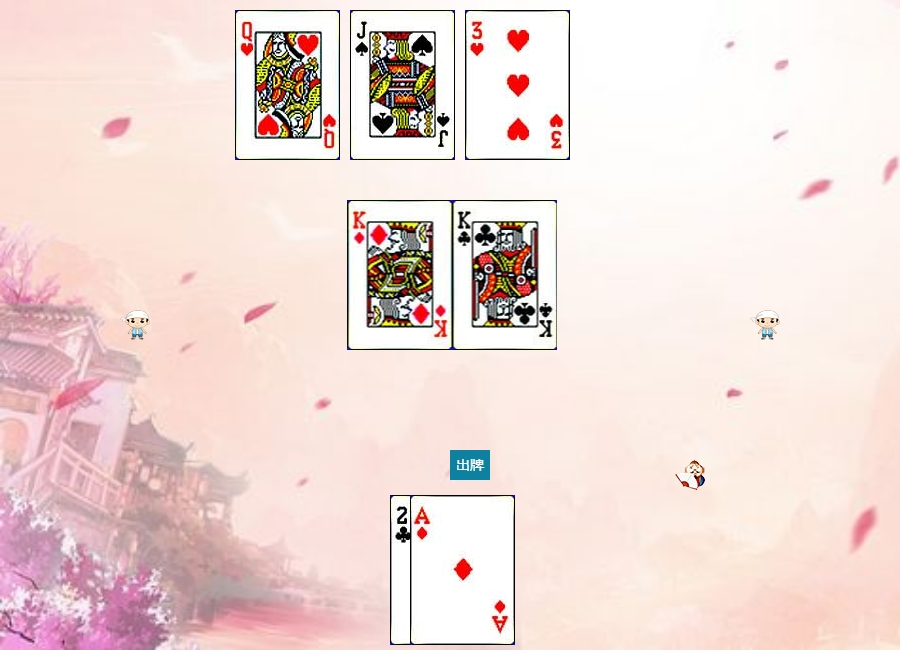11~4: (350, 10, 455, 160)
12~3: (235, 10, 340, 160)
13~1: (348, 200, 453, 350)
13~2: (453, 200, 558, 350)
14~1: (410, 495, 515, 645)
15~2: (390, 495, 495, 645)
3~3: (465, 10, 570, 160)
